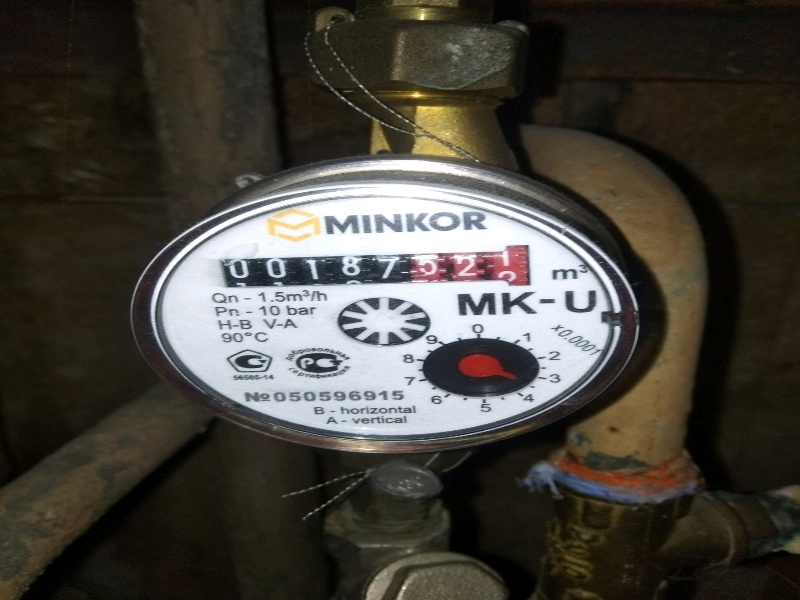dial: (210, 240, 525, 284)
